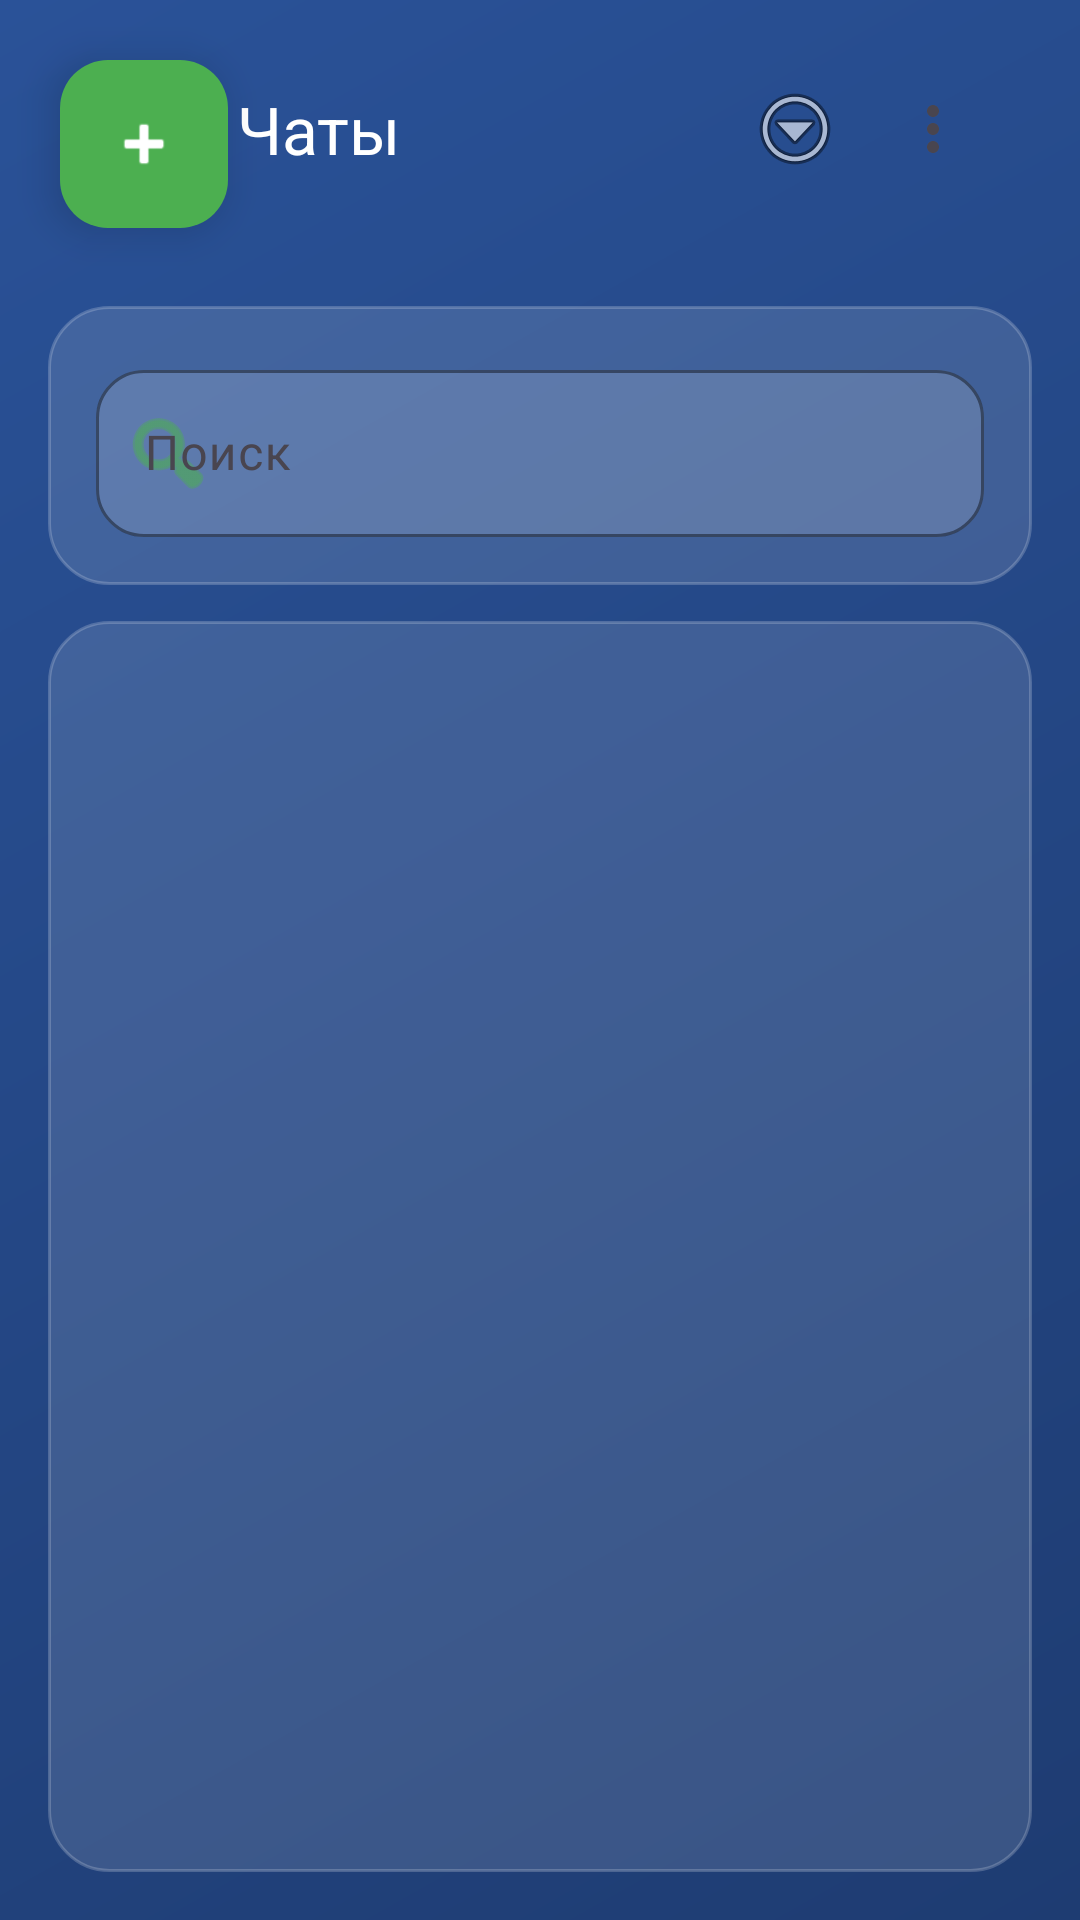

Named icons in this screenshot (1080 x 1920) and their centers, [x,y]:
Новый чат: [144,144]
